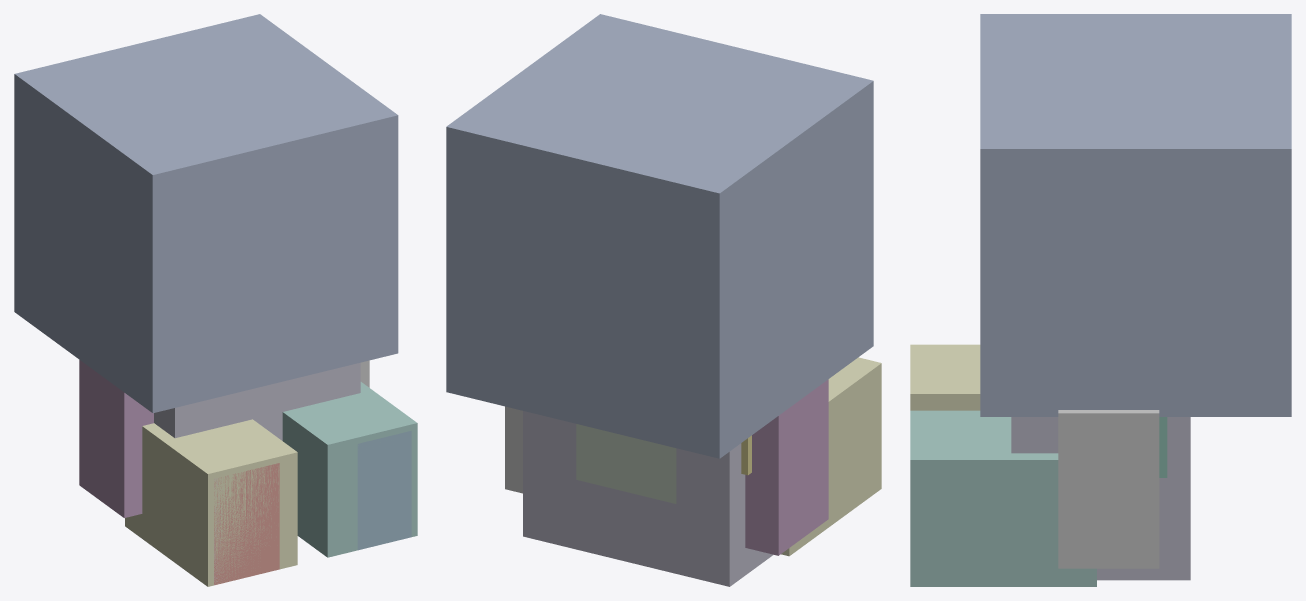
Rendered from doll_bbox.glb.
3 renders of one model, left to right at view 1: azimuth 30°, elevation 25°; view 2: azimuth 150°, elevation 25°; view 3: azimuth 270°, elevation 25°, orthographic. The views are drawn at different scales.
Visible parts, largest first — view 1: world; view 2: world; view 3: world.
Boxes of the visible parts, x1,y1,x2,y2 form: world: [14, 14, 417, 586]; world: [446, 14, 881, 586]; world: [910, 14, 1291, 586].
Size of the model in its own units: 0.6667 by 1 by 0.7778.
